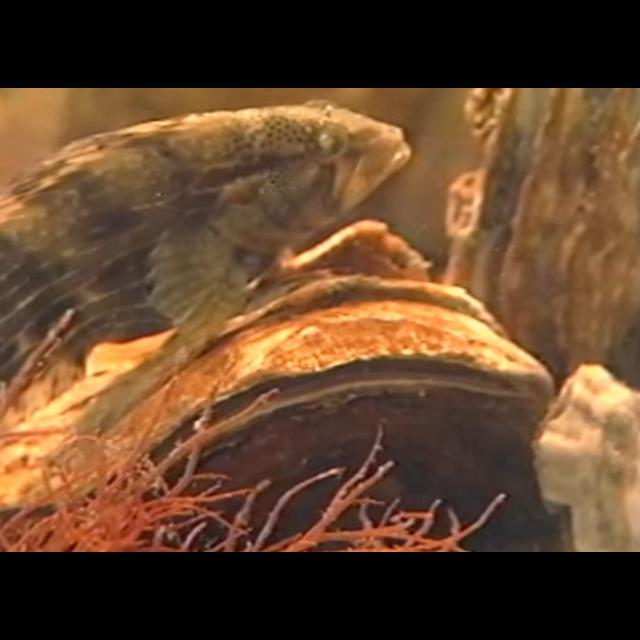Oyster-Open: (0, 276, 552, 536), (438, 88, 640, 398), (530, 362, 640, 552)
